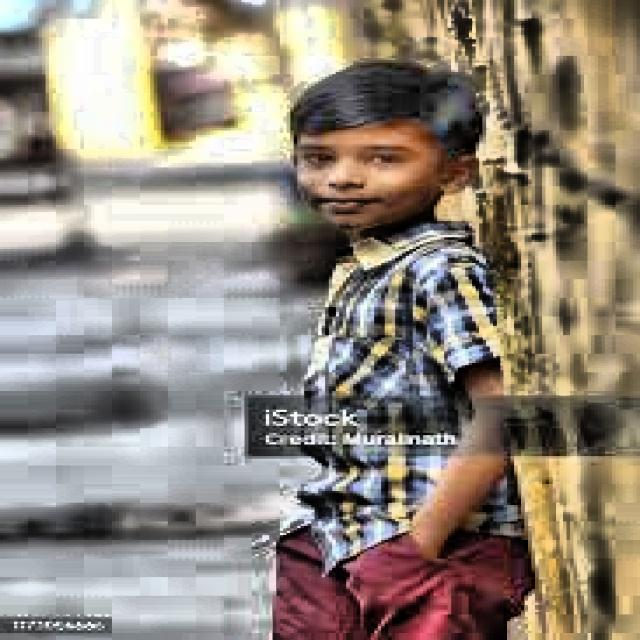Human: (213, 65, 577, 640)
